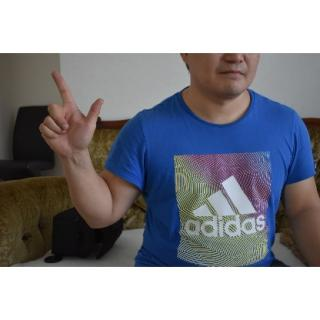LAAM: (36, 64, 107, 164)
